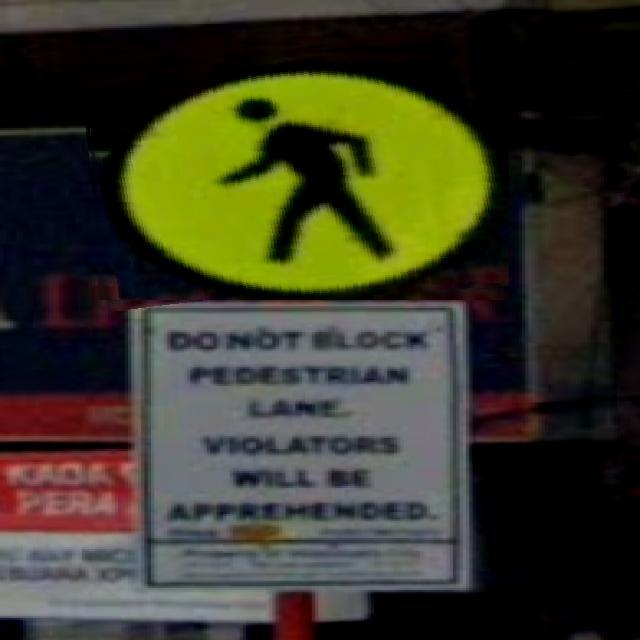pedestrian crossing: (85, 36, 509, 300)
